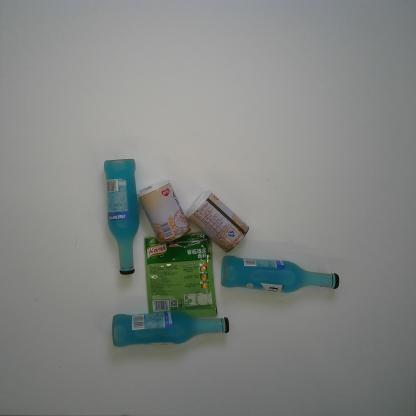Alcohol: (220, 254, 340, 294), (111, 310, 230, 348), (103, 158, 140, 276)
Canned Food: (185, 188, 251, 254), (136, 178, 192, 245)
Seasoner: (144, 231, 218, 318)
